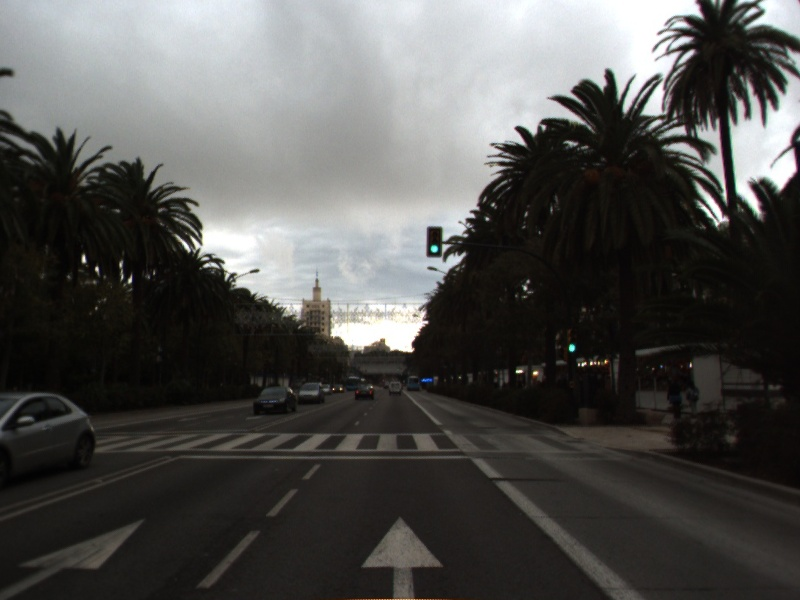STRAIGHT: (1, 514, 149, 600), (358, 514, 446, 600)
